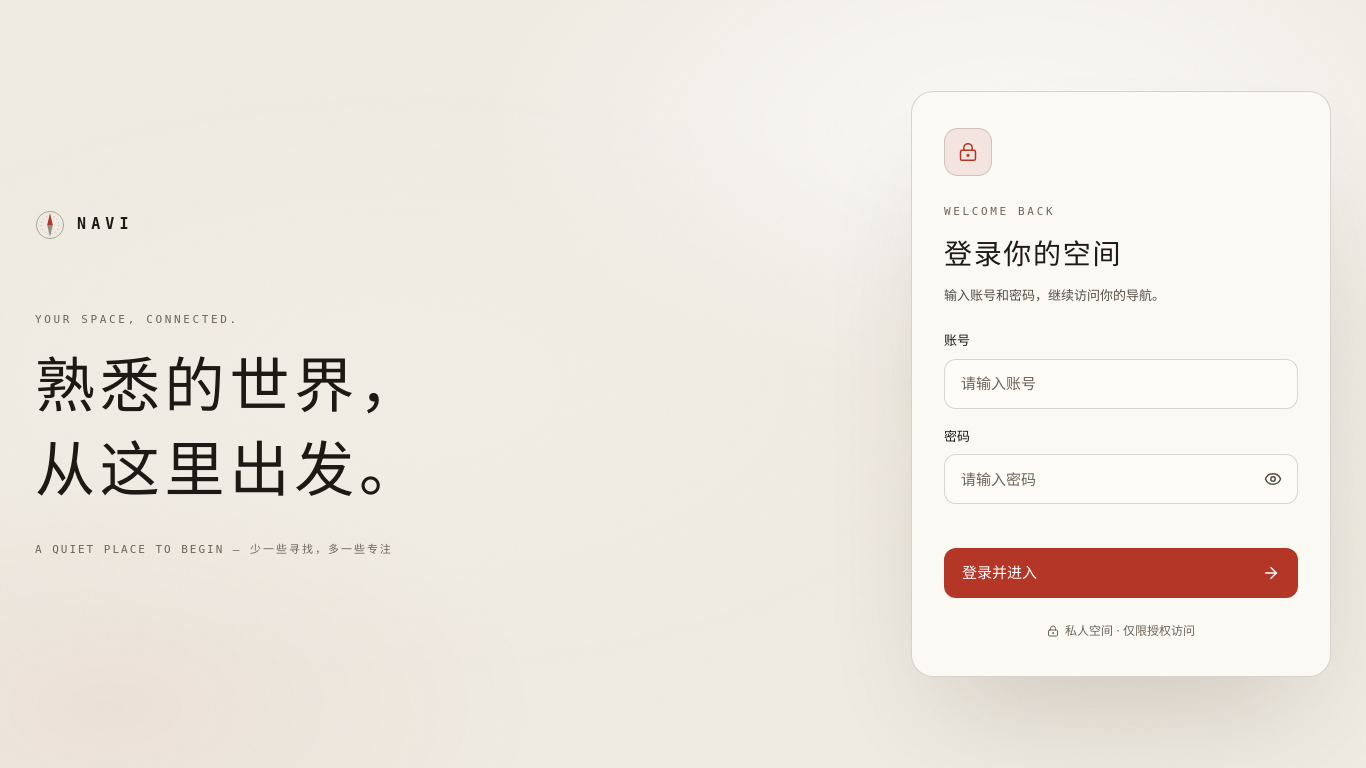
Test: LoginPage › reports HTTP 429 rate_limited and allows the user to retry
Type "navi-user" into the field labelled "账号" at (1121, 384), box [944, 359, 1298, 409]
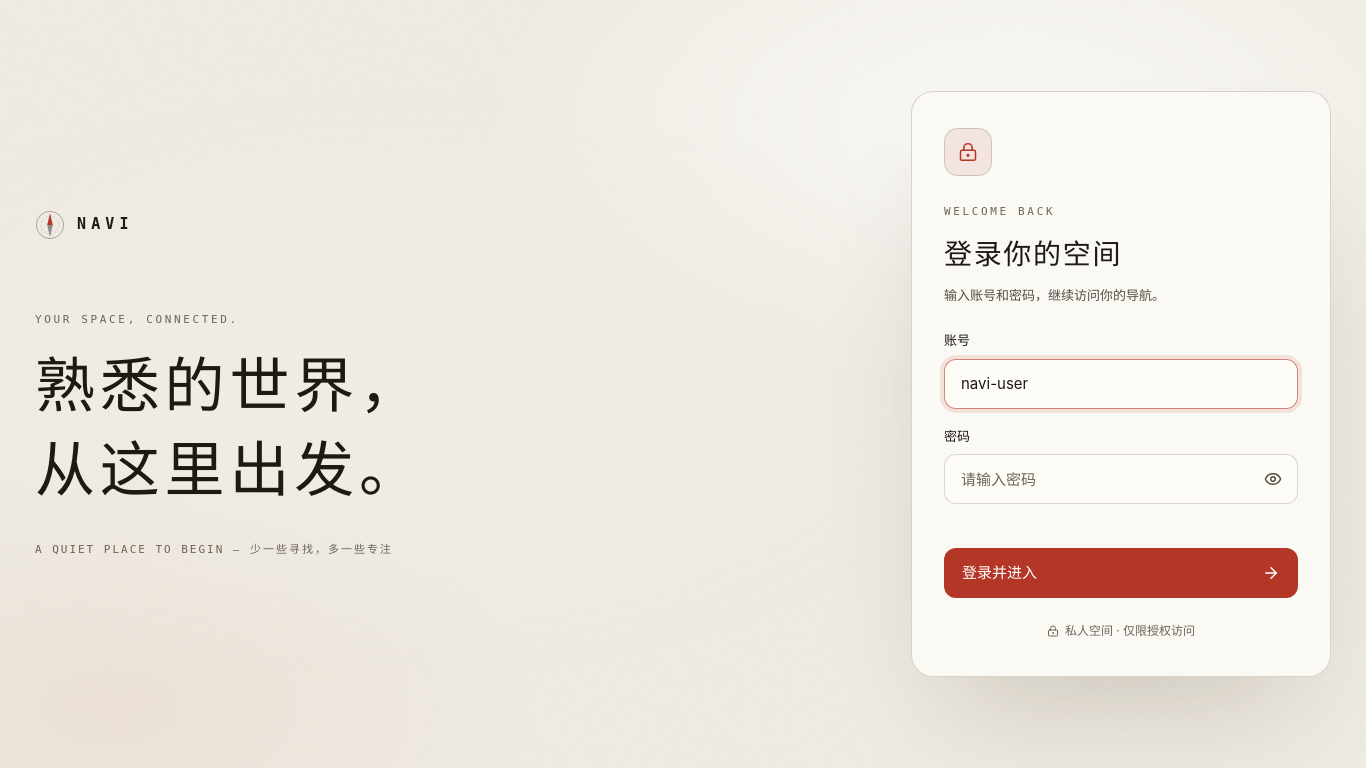
Type "test-password" into the password field labelled "密码" at (1121, 479), box [944, 454, 1298, 504]
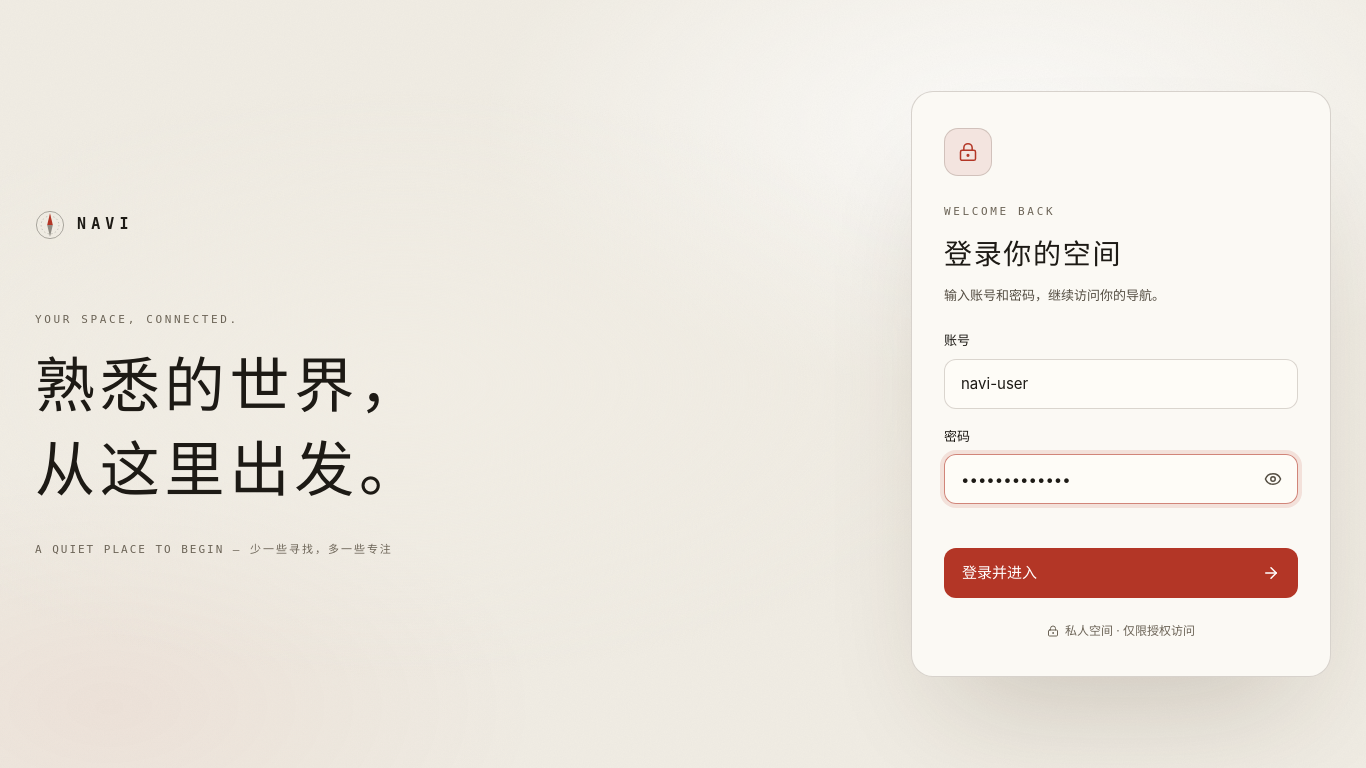
Click the button "登录并进入" at (1000, 572), box [944, 548, 1298, 598]
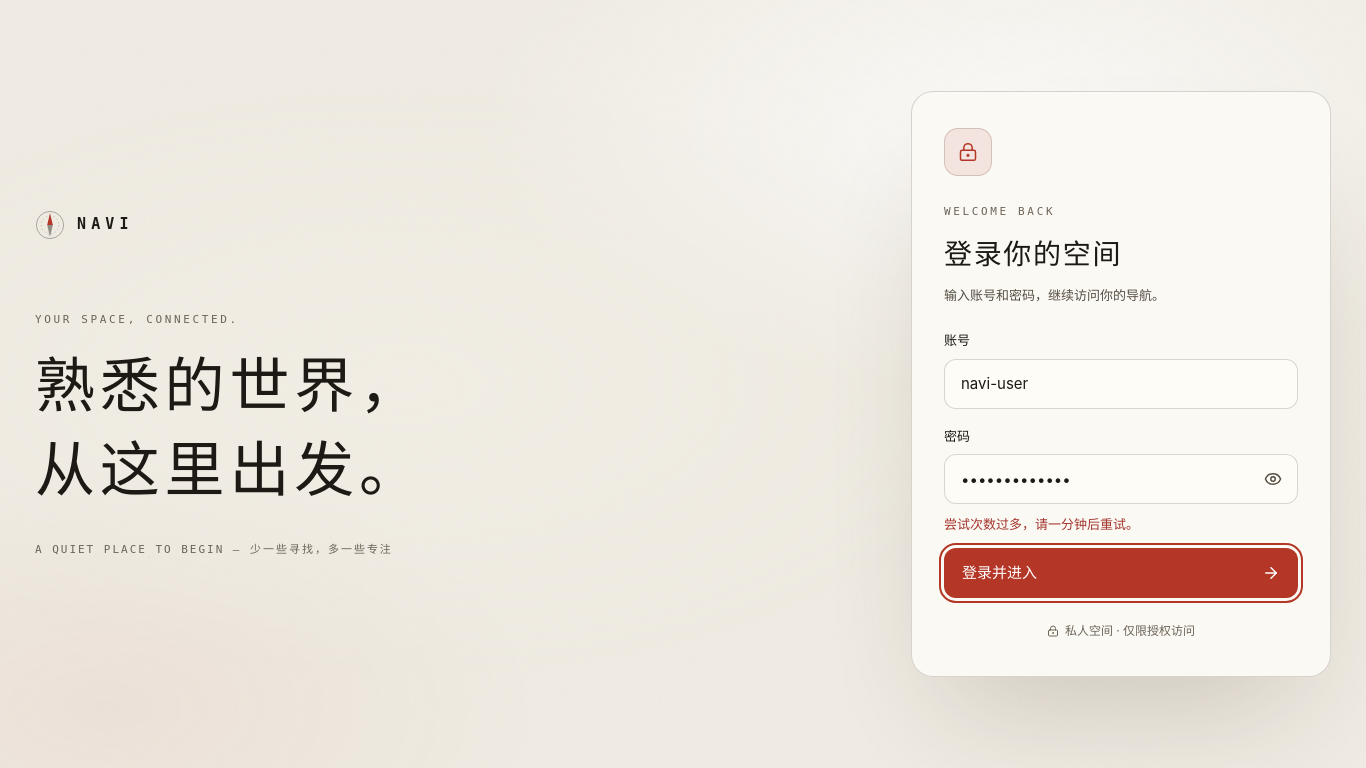
Now the message reads "尝试次数过多，请一分钟后重试。", box [944, 516, 1139, 532]
